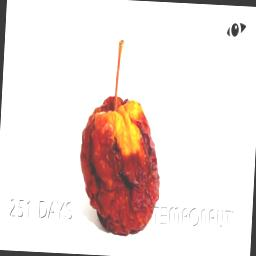Apple Rotten: (70, 14, 183, 238)
